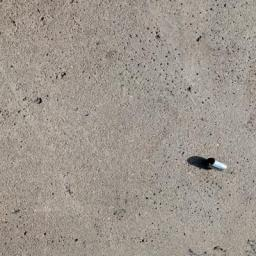FOD: (190, 150, 229, 178)
